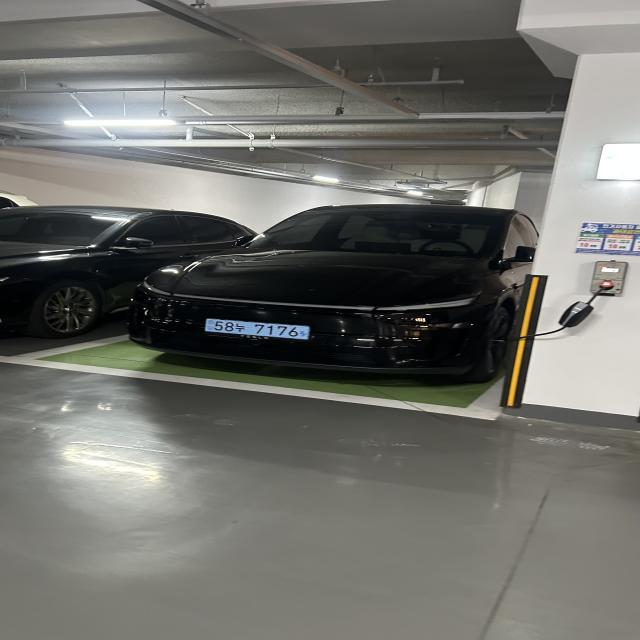car: (195, 313, 329, 348)
carev: (295, 321, 316, 346), (203, 315, 213, 339)
